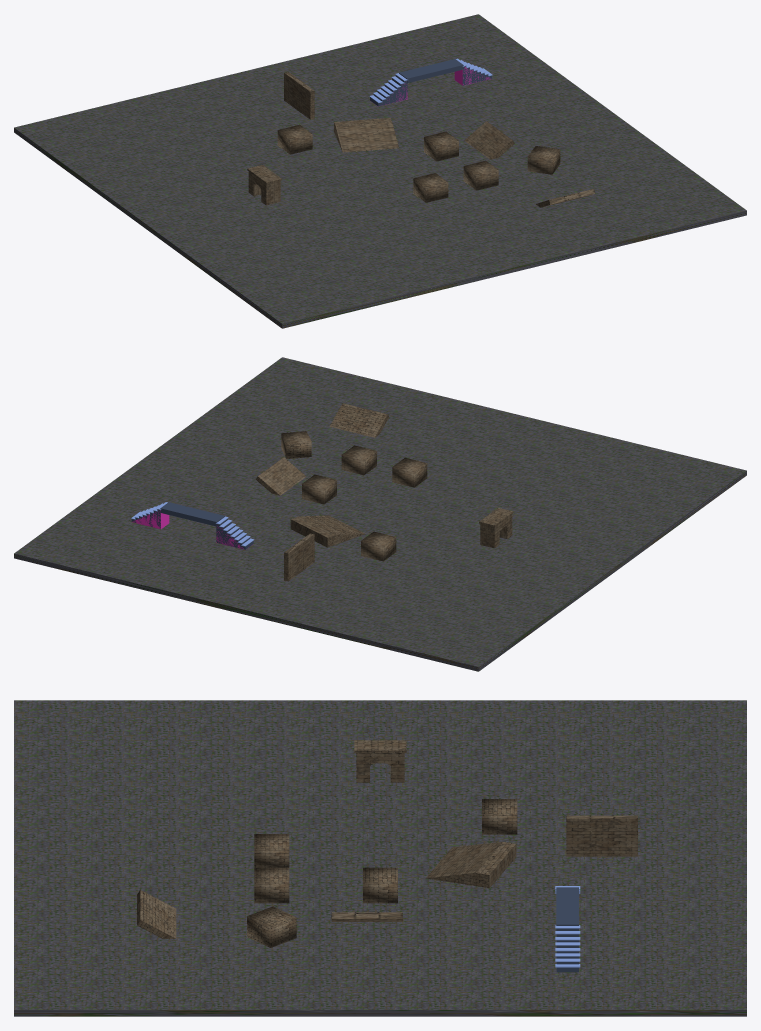
Rendered from step21-static.gltf.
The picture shows the model from 3 angles, top to bottom: view 1: azimuth 30°, elevation 25°; view 2: azimuth 150°, elevation 25°; view 3: azimuth 270°, elevation 25°; orthographic projection. The views are drawn at different scales.
Visible parts, largest first — view 1: groundbox, ramp, wall.001, arch, wall, brickcube.003, brickcube, brickcube.002, brickcube.001, brickcube.004, stairs, walkway; view 2: groundbox, ramp, wall.002, wall.001, arch, wall, brickcube, brickcube.002, brickcube.003, brickcube.001, stairs, brickcube.004 (+1 smaller); view 3: groundbox, wall, ramp, arch, brickcube.004, wall.002, brickcube.002, brickcube, brickcube.001, brickcube.003, stairs.001, walkway (+1 smaller).
Part boxes in pixels (<box>): groundbox: <box>14,14,746,328</box>; ramp: <box>334,118,398,152</box>; wall.001: <box>464,121,514,159</box>; arch: <box>247,164,281,205</box>; wall: <box>284,71,314,119</box>; brickcube.003: <box>413,173,448,202</box>; brickcube: <box>277,124,312,154</box>; brickcube.002: <box>463,160,498,190</box>; brickcube.001: <box>424,131,458,161</box>; brickcube.004: <box>527,146,560,174</box>; stairs: <box>369,73,407,106</box>; walkway: <box>399,59,463,83</box>; groundbox: <box>14,357,746,671</box>; ramp: <box>290,515,365,547</box>; wall.002: <box>329,403,389,437</box>; wall.001: <box>256,457,306,495</box>; arch: <box>479,507,513,548</box>; wall: <box>284,533,314,581</box>; brickcube: <box>361,531,396,561</box>; brickcube.002: <box>341,445,376,475</box>; brickcube.003: <box>392,457,427,487</box>; brickcube.001: <box>302,474,336,504</box>; stairs: <box>215,516,254,549</box>; brickcube.004: <box>281,431,311,458</box>; groundbox: <box>14,700,746,1016</box>; wall: <box>566,815,637,856</box>; ramp: <box>425,841,516,888</box>; arch: <box>354,740,406,782</box>; brickcube.004: <box>247,906,296,947</box>; wall.002: <box>137,890,176,938</box>; brickcube.002: <box>254,867,289,903</box>; brickcube: <box>482,799,517,834</box>; brickcube.001: <box>363,867,397,903</box>; brickcube.003: <box>254,834,289,867</box>; stairs.001: <box>555,925,580,972</box>; walkway: <box>556,887,578,930</box>.
Size of the model in its own units: 100 by 6.74 by 100.
5 materials, 2 textured.
